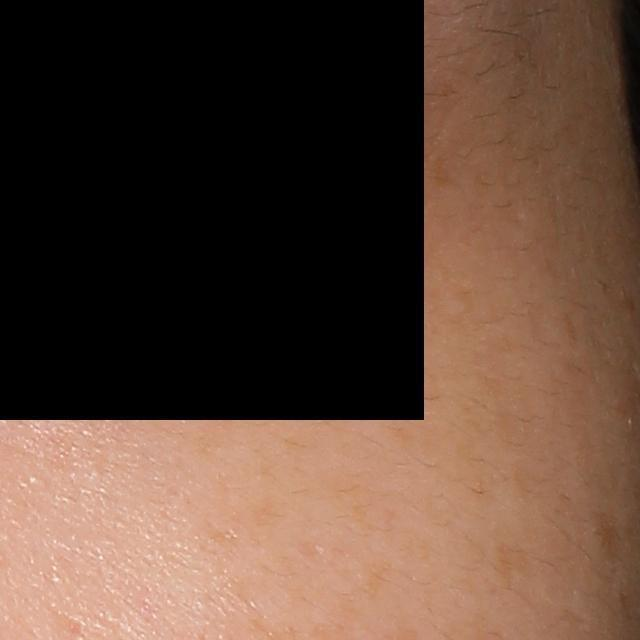melasma: (489, 537, 535, 595), (591, 511, 626, 561)
